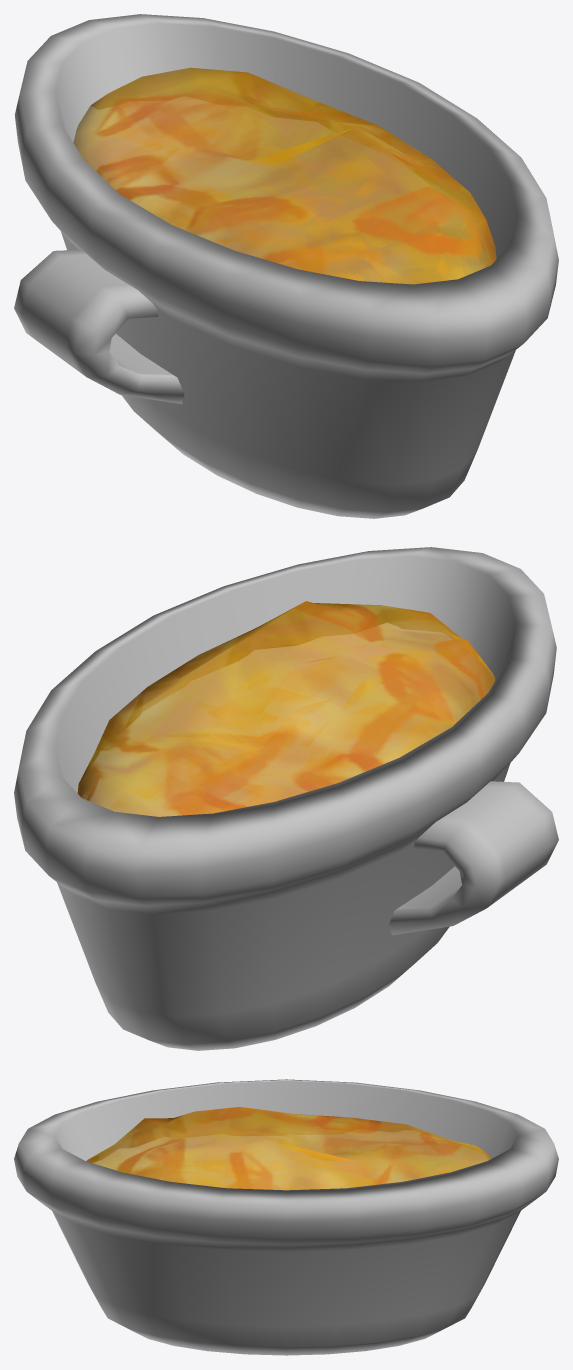
The model's file is pi_marmalade04.gltf.
The picture shows the model from 3 angles, top to bottom: view 1: azimuth 30°, elevation 25°; view 2: azimuth 150°, elevation 25°; view 3: azimuth 270°, elevation 25°; orthographic projection. The views are drawn at different scales.
Visible parts, largest first — view 1: pi_marmalade04_glass01_mesh_shape:pi_marmalade04_glass, pi_marmalade04_jam01_mesh_shape:pi_marmalade04_jam, pi_marmalade04_glass02_mesh_shape:pi_marmalade04_glass, pi_marmalade04_jam03_mesh_shape:pi_marmalade04_jam; view 2: pi_marmalade04_glass01_mesh_shape:pi_marmalade04_glass, pi_marmalade04_jam01_mesh_shape:pi_marmalade04_jam, pi_marmalade04_glass02_mesh_shape:pi_marmalade04_glass, pi_marmalade04_jam03_mesh_shape:pi_marmalade04_jam, pi_marmalade04_jam02_mesh_shape:pi_marmalade04_jam; view 3: pi_marmalade04_glass01_mesh_shape:pi_marmalade04_glass, pi_marmalade04_jam01_mesh_shape:pi_marmalade04_jam, pi_marmalade04_jam03_mesh_shape:pi_marmalade04_jam.
Part boxes in pixels (x1=…): pi_marmalade04_glass01_mesh_shape:pi_marmalade04_glass: x1=14, y1=14, x2=558, y2=518; pi_marmalade04_jam01_mesh_shape:pi_marmalade04_jam: x1=73, y1=67, x2=496, y2=284; pi_marmalade04_glass02_mesh_shape:pi_marmalade04_glass: x1=14, y1=249, x2=184, y2=404; pi_marmalade04_jam03_mesh_shape:pi_marmalade04_jam: x1=129, y1=126, x2=464, y2=279; pi_marmalade04_glass01_mesh_shape:pi_marmalade04_glass: x1=14, y1=547, x2=556, y2=1050; pi_marmalade04_jam01_mesh_shape:pi_marmalade04_jam: x1=77, y1=601, x2=495, y2=816; pi_marmalade04_glass02_mesh_shape:pi_marmalade04_glass: x1=389, y1=781, x2=558, y2=935; pi_marmalade04_jam03_mesh_shape:pi_marmalade04_jam: x1=136, y1=690, x2=376, y2=800; pi_marmalade04_jam02_mesh_shape:pi_marmalade04_jam: x1=193, y1=652, x2=420, y2=781; pi_marmalade04_glass01_mesh_shape:pi_marmalade04_glass: x1=14, y1=1079, x2=558, y2=1355; pi_marmalade04_jam01_mesh_shape:pi_marmalade04_jam: x1=86, y1=1107, x2=491, y2=1190; pi_marmalade04_jam03_mesh_shape:pi_marmalade04_jam: x1=194, y1=1161, x2=417, y2=1188.
Size of the model in its own units: 0.0726 by 0.0473 by 0.1164.
Materials: 2 (2 with a texture image).
